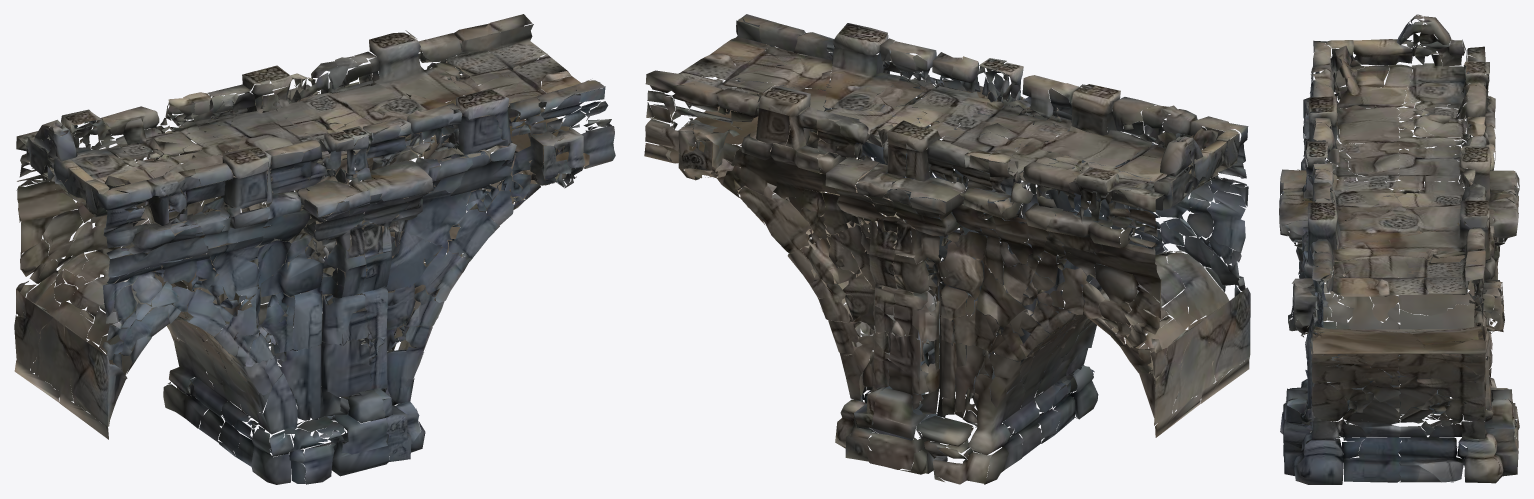
File: arch_bridge_span_LOD0.glb
The picture shows the model from 3 angles, left to right: view 1: azimuth 30°, elevation 25°; view 2: azimuth 150°, elevation 25°; view 3: azimuth 270°, elevation 25°; orthographic projection. The views are drawn at different scales.
Visible parts, largest first — view 1: tripo_node_e0c340e7-bc99-4b1c-ba89-c9116086cf4d; view 2: tripo_node_e0c340e7-bc99-4b1c-ba89-c9116086cf4d; view 3: tripo_node_e0c340e7-bc99-4b1c-ba89-c9116086cf4d.
Boxes of the visible parts, box(x1,y1,x2,y2) form: tripo_node_e0c340e7-bc99-4b1c-ba89-c9116086cf4d: box(14, 14, 615, 484); tripo_node_e0c340e7-bc99-4b1c-ba89-c9116086cf4d: box(644, 14, 1250, 484); tripo_node_e0c340e7-bc99-4b1c-ba89-c9116086cf4d: box(1279, 14, 1519, 484).
Bounding box in the file's own units: 1 × 0.6594 × 0.4372.
1 material, 1 textured.
